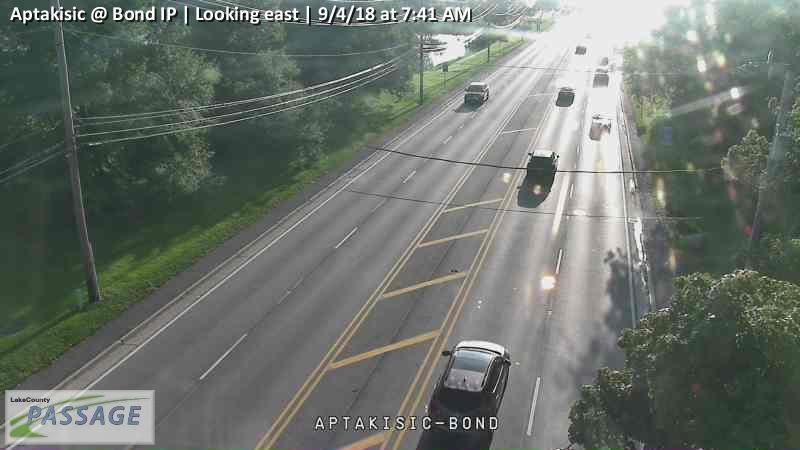SUV: (426, 339, 512, 434), (464, 82, 490, 104)
Sedan: (525, 150, 560, 175), (589, 114, 611, 138), (556, 86, 576, 107), (591, 68, 609, 86), (575, 45, 587, 55)
